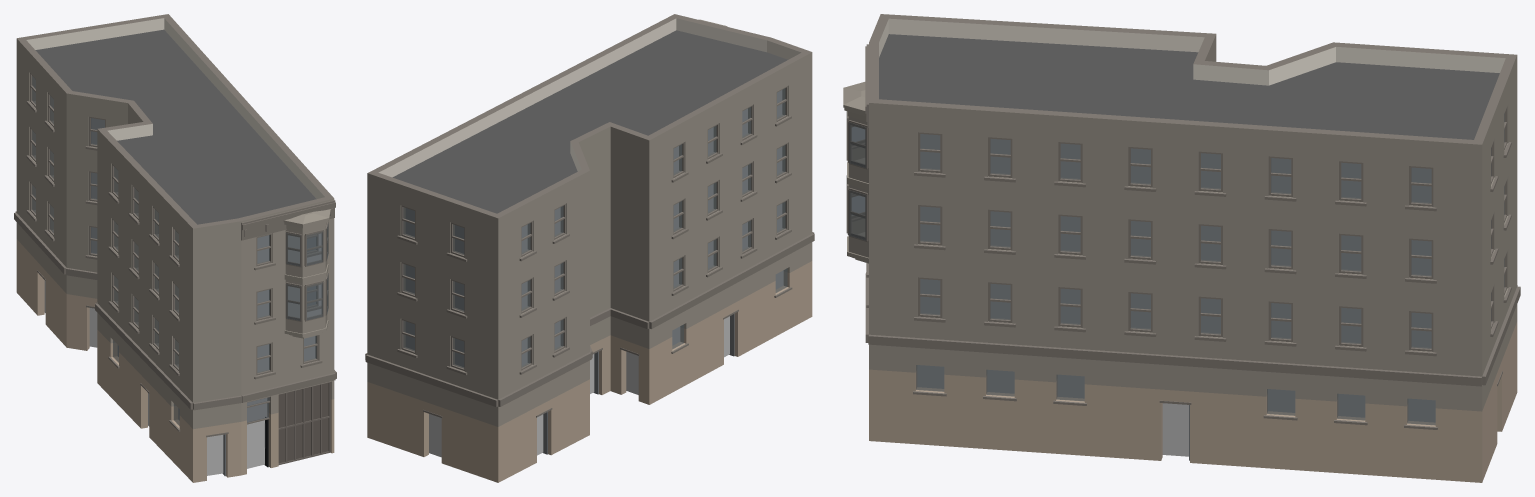
File: exterior.glb
3 renders of one model, left to right at view 1: azimuth 30°, elevation 25°; view 2: azimuth 150°, elevation 25°; view 3: azimuth 270°, elevation 25°, orthographic. The views are drawn at different scales.
Visible parts, largest first — view 1: shell, roof, trim, shadow-proxy, glazing, storefront, frames, bay-glazing-hyb, bay-windows-hyb; view 2: shell, roof, glazing, trim, shadow-proxy, frames, storefront; view 3: shell, roof, glazing, shadow-proxy, trim, frames, bay-windows-hyb, bay-glazing-hyb.
Boxes of the visible parts, x1,y1,x2,y2 form: shell: (16,14,334,482); roof: (35,29,316,224); trim: (14,101,336,431); shadow-proxy: (44,118,321,475); glazing: (32,76,316,447); storefront: (37,270,330,476); frames: (30,73,318,375); bay-glazing-hyb: (285,222,328,321); bay-windows-hyb: (283,209,330,338); shell: (367,14,812,482); roof: (392,30,787,213); glazing: (403,88,787,368); trim: (365,115,814,407); shadow-proxy: (406,90,783,457); frames: (401,86,787,371); storefront: (423,309,738,454); shell: (869,14,1517,482); roof: (879,34,1499,139); glazing: (916,113,1504,425); shadow-proxy: (917,134,1435,456); trim: (865,44,1520,429); frames: (918,107,1507,351); bay-windows-hyb: (843,82,868,263); bay-glazing-hyb: (846,111,868,241).
Size of the model in its own units: 10.84 by 12.78 by 23.2.
